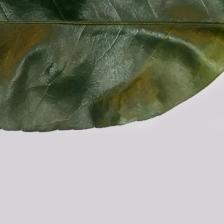healthy: (4, 5, 196, 116)
